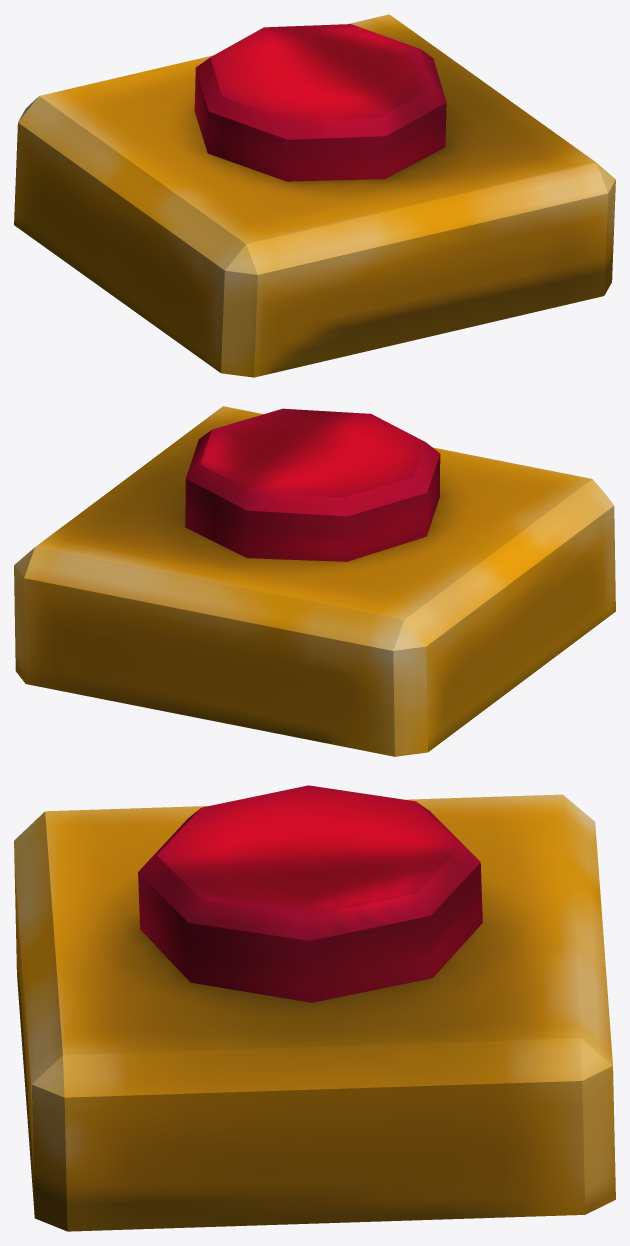
Rendered from Urgence.FBX.
The picture shows the model from 3 angles, top to bottom: view 1: azimuth 30°, elevation 25°; view 2: azimuth 150°, elevation 25°; view 3: azimuth 270°, elevation 25°; orthographic projection. The views are drawn at different scales.
Parts seen in each view (by area): view 1: PanelBoton; view 2: PanelBoton; view 3: PanelBoton.
Boxes of the visible parts, box(x1,y1,x2,y2) form: PanelBoton: box(14, 14, 615, 377); PanelBoton: box(14, 406, 615, 756); PanelBoton: box(14, 785, 615, 1231).
Bounding box in the file's own units: 25.35 × 24.27 × 11.43.
